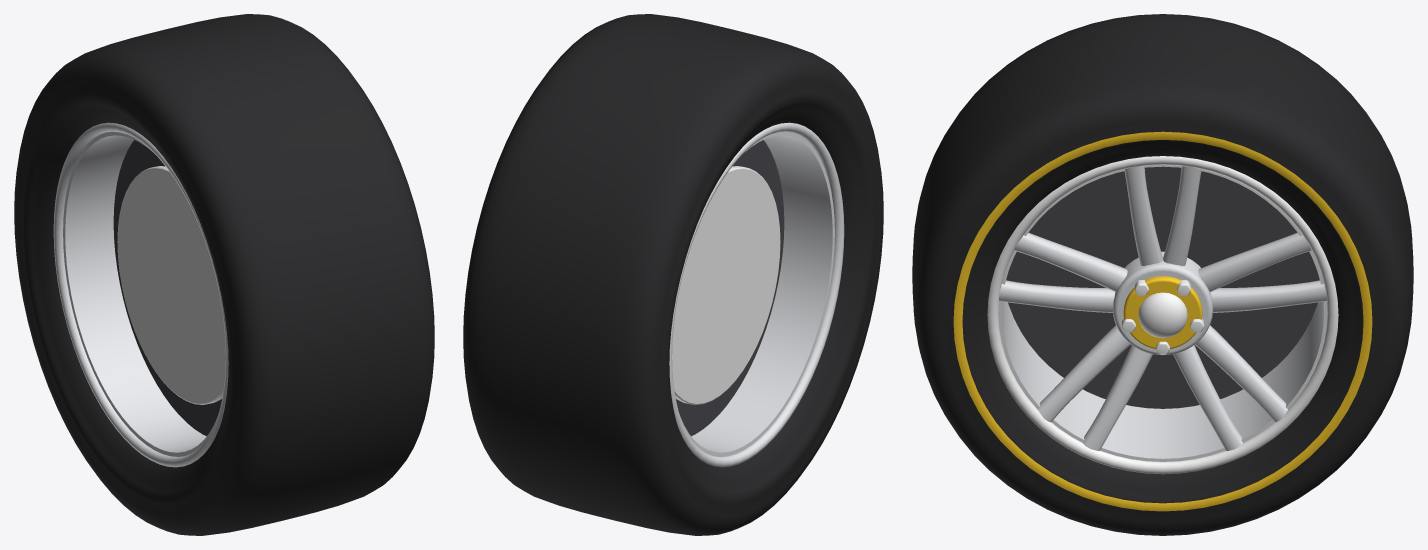
File: wheel_classic.glb
3 renders of one model, left to right at view 1: azimuth 30°, elevation 25°; view 2: azimuth 150°, elevation 25°; view 3: azimuth 270°, elevation 25°, orthographic.
Parts seen in each view (by area): view 1: wheel_classic; view 2: wheel_classic; view 3: wheel_classic.
Boxes of the visible parts, x1,y1,x2,y2 form: wheel_classic: (14, 14, 434, 535); wheel_classic: (463, 14, 883, 535); wheel_classic: (912, 14, 1413, 535).
Bounding box in the file's own units: 0.2468 × 0.56 × 0.56.
